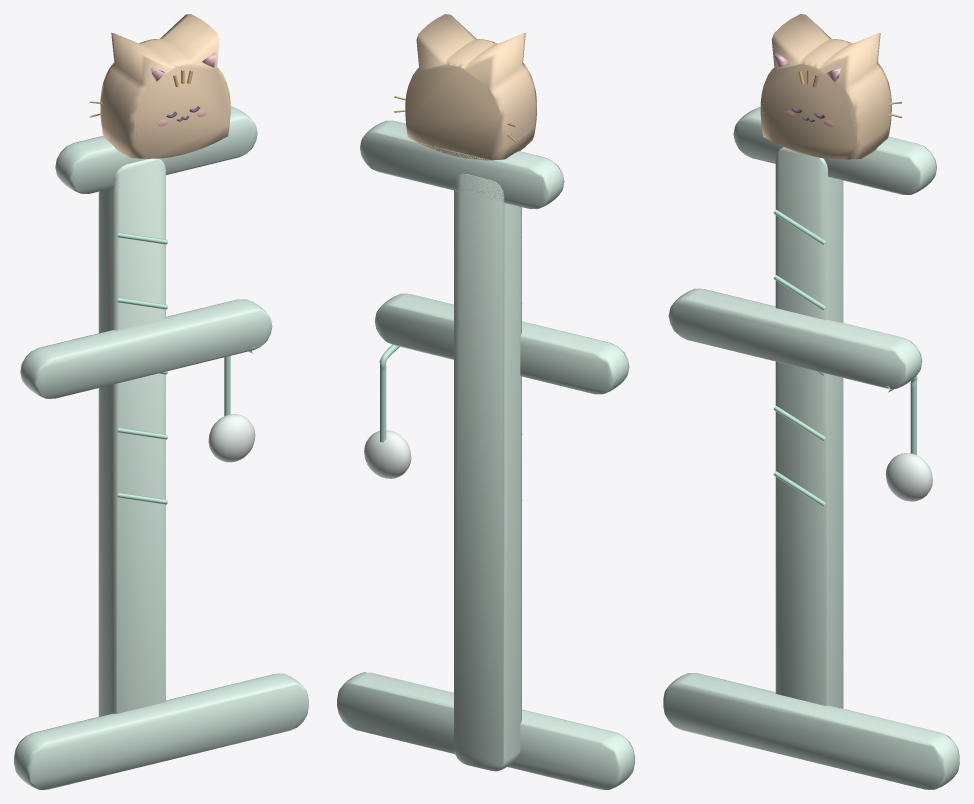
Rendered from decor_1_mint.glb.
3 views of the same model, side by side, from view 1: azimuth 30°, elevation 25°; view 2: azimuth 150°, elevation 25°; view 3: azimuth 330°, elevation 25° (orthographic).
Parts seen in each view (by area): view 1: decor_1_mint; view 2: decor_1_mint; view 3: decor_1_mint.
Boxes of the visible parts, x1,y1,x2,y2 form: decor_1_mint: (14,14,308,789); decor_1_mint: (337,14,634,789); decor_1_mint: (663,14,959,789).
Size of the model in its own units: 9.1 by 22.09 by 2.07.
